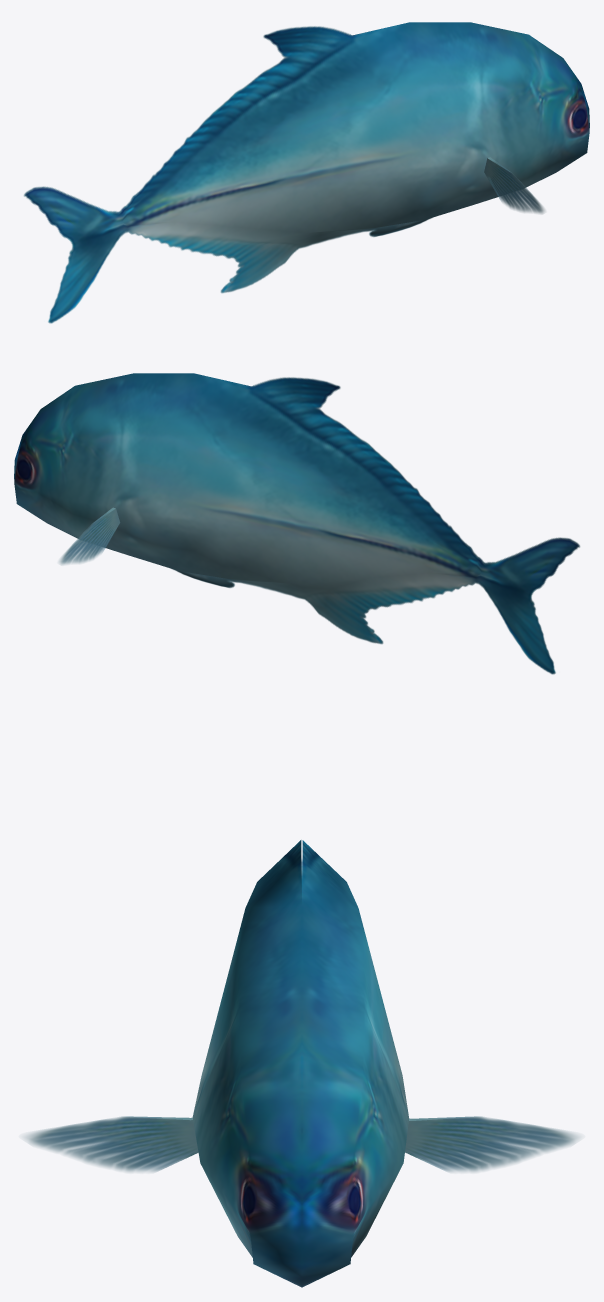
File: caranx_new.glb
The picture shows the model from 3 angles, top to bottom: view 1: azimuth 30°, elevation 25°; view 2: azimuth 150°, elevation 25°; view 3: azimuth 270°, elevation 25°; orthographic projection. The views are drawn at different scales.
Visible parts, largest first — view 1: Caranx_body_lambert5_0, Caranx_fins_lambert5_0; view 2: Caranx_body_lambert5_0, Caranx_fins_lambert5_0; view 3: Caranx_body_lambert5_0, Caranx_fins_lambert5_0.
Part boxes in pixels (bbox=[...]): Caranx_body_lambert5_0: bbox=[23, 22, 589, 323]; Caranx_fins_lambert5_0: bbox=[484, 157, 544, 213]; Caranx_body_lambert5_0: bbox=[14, 373, 580, 674]; Caranx_fins_lambert5_0: bbox=[59, 507, 120, 564]; Caranx_body_lambert5_0: bbox=[192, 840, 409, 1287]; Caranx_fins_lambert5_0: bbox=[23, 1116, 580, 1172].
Size of the model in its own units: 0.00088 by 0.00038 by 0.000505.
1 material, 1 textured.
